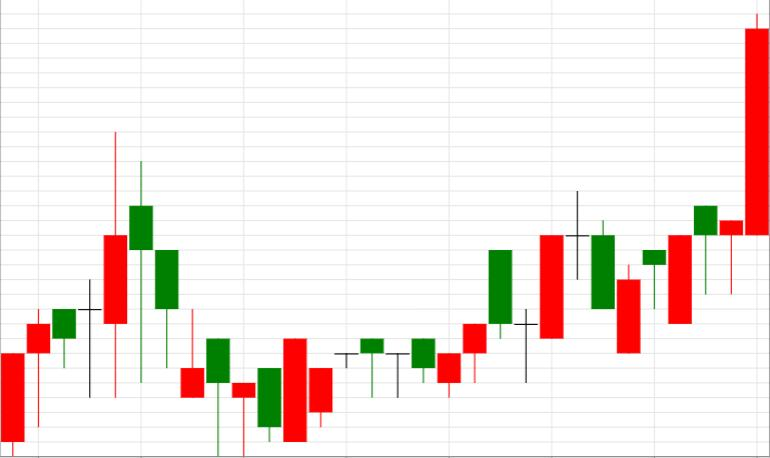bullish_engulfing_rise: (130, 160, 307, 456)
morning_star_rise: (438, 191, 615, 396)
